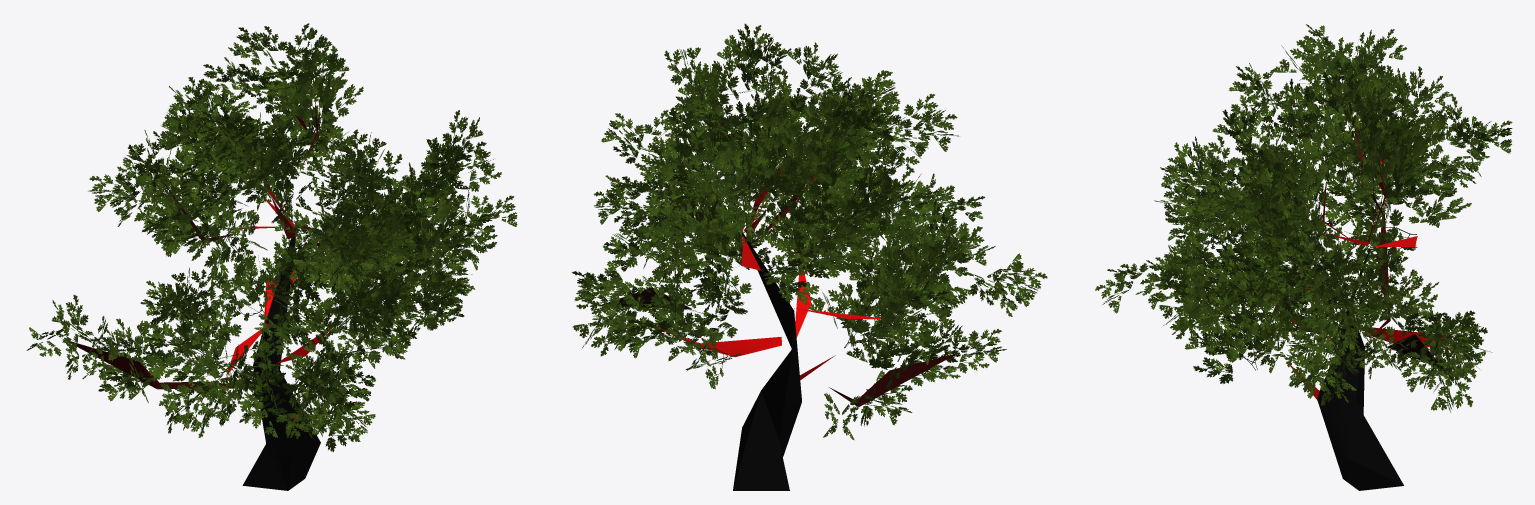
The model's file is oak1 lod3.FBX.
3 views of the same model, side by side, from view 1: azimuth 30°, elevation 25°; view 2: azimuth 150°, elevation 25°; view 3: azimuth 270°, elevation 25° (orthographic). The views are drawn at different scales.
Visible parts, largest first — view 1: oak1_LOD3; view 2: oak1_LOD3; view 3: oak1_LOD3.
Boxes of the visible parts, x1,y1,x2,y2 form: oak1_LOD3: (26, 23, 517, 490); oak1_LOD3: (572, 23, 1047, 490); oak1_LOD3: (1095, 24, 1512, 490).
Size of the model in its own units: 102972 by 100814 by 87328.
